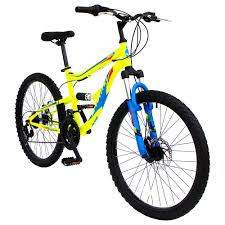bicycle: (8, 2, 214, 221)
